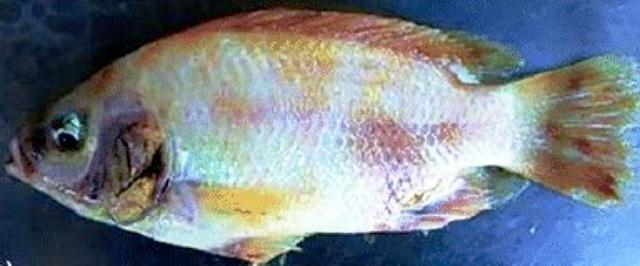Tilapia Lake Virus -TiLV-: (7, 8, 638, 265)
